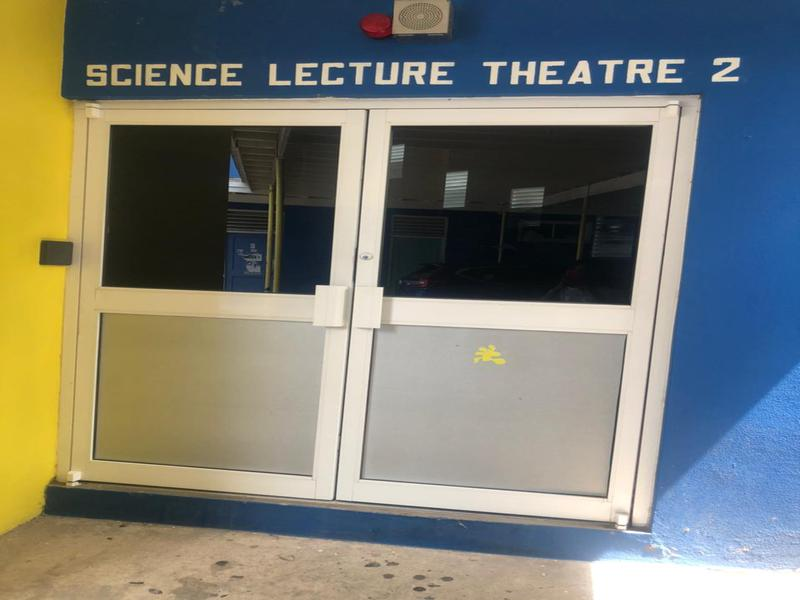slt2_door: (54, 41, 744, 562)
